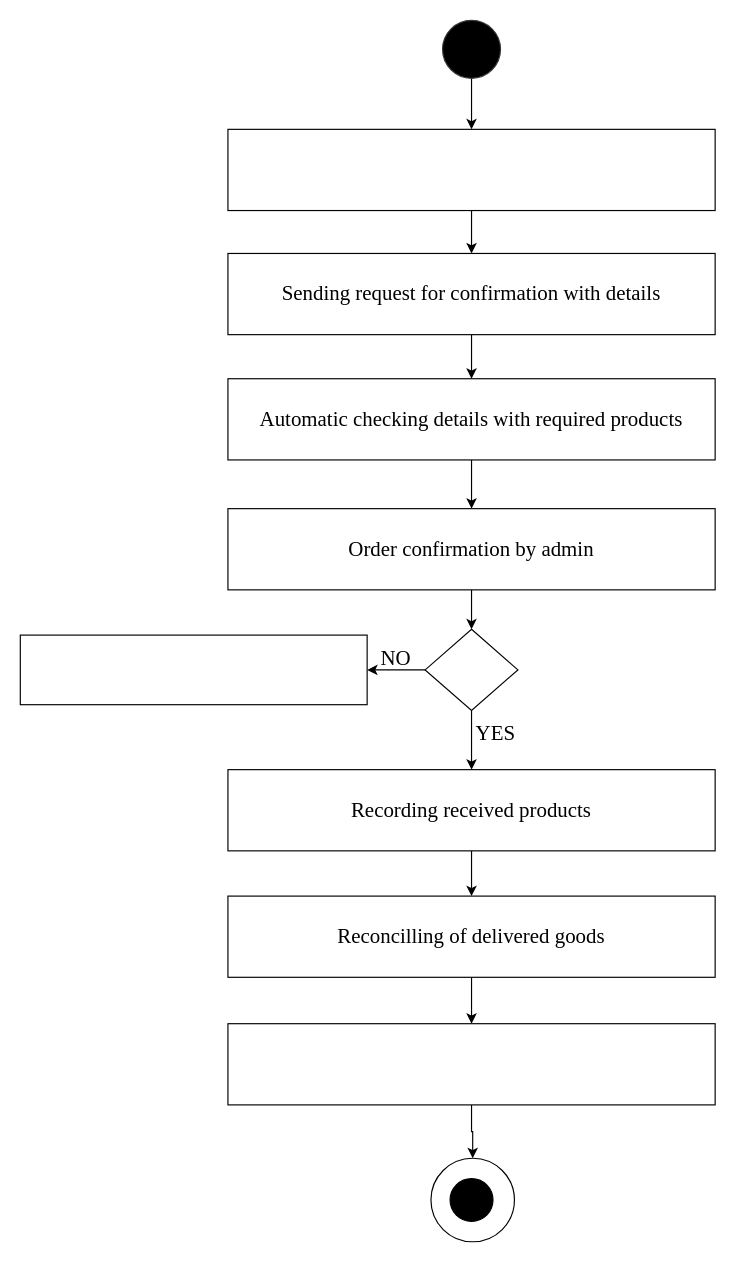
The diagram is 735 pixels wide and 1262 high, and some of its shapes have lost their labels. The shapes that lost their labels are listed below. From the top down, each one's centre as x and y in pixels, then its label:
point 471,169: Displaying real-time inventory data to suppliers
point 193,669: Notifying cancellation
point 471,1064: Entry of receipt
